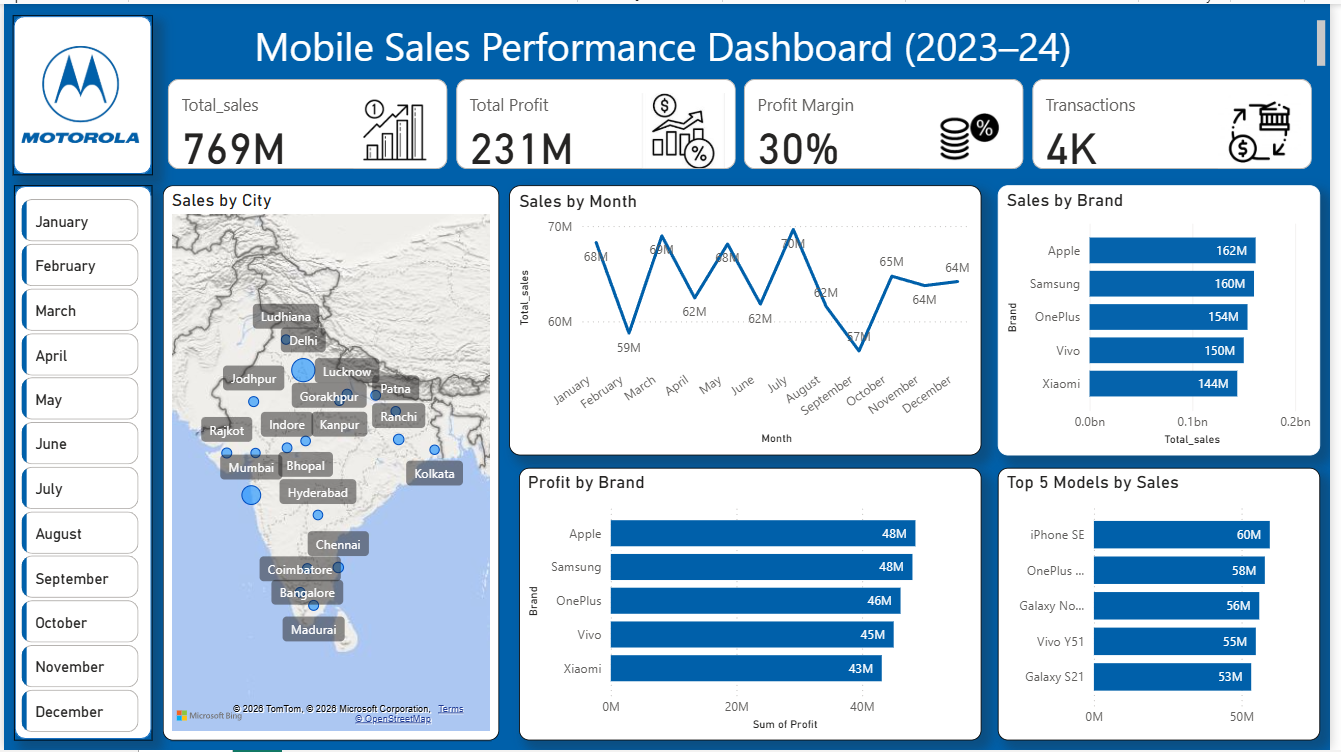

The dashboard page shown, as its layout file describes it:
{"tool":"powerbi","page":{"name":"Page 1","canvas":[1280,720],"ordinal":0},"visuals":[{"type":"shape","box":[8.4,10.9,135.1,154.4],"z":0},{"type":"image","box":[12.1,24.1,123.1,126.7],"z":1000},{"type":"shape","box":[9.7,174.9,133.9,535.7],"z":2000},{"type":"advancedSlicerVisual","fields":{"Values":["Sheet1.Date.Variation.Date Hierarchy.Month"]},"box":[12.1,183.4,123.1,527.2],"z":3000},{"type":"cardVisual","fields":{"Data":["Sheet1.Total_salessheet1","Sheet1.Total Profit","Sheet1.Profit Margin","Sheet1.Transactions"]},"box":[153.2,67.6,1117.2,97.7],"z":4000},{"type":"map","title":"Sales by City","fields":{"Category":["Sheet1.City"],"Size":["Sheet1.Total_sales"]},"box":[153.2,174.9,324.5,535.7],"z":5000},{"type":"lineChart","title":"Sales by Month","fields":{"Category":["Sheet1.Date.Variation.Date Hierarchy.Month"],"Y":["Sheet1.Total_sales"]},"box":[487.4,174.9,456,260.6],"z":6000},{"type":"barChart","title":"Sales by Brand","fields":{"Category":["Sheet1.Brand"],"Y":["Sheet1.Total_sales"]},"box":[959.1,174.9,311.3,260.6],"z":7000},{"type":"clusteredBarChart","title":"Profit by Brand","fields":{"Category":["Sheet1.Brand"],"Y":["Sum(Sheet1.Profit)"]},"box":[497.1,447.6,446.4,263],"z":8000},{"type":"clusteredBarChart","title":"Top 5 Models by Sales","fields":{"Category":["Sheet1.Mobile Model"],"Y":["Sheet1.Total_sales"]},"box":[959.1,447.6,311.3,263],"z":9000},{"type":"textbox","box":[0,10.9,1280,56.7],"z":10000}]}

Visuals, with their boxes in screenshot pixels (x1, y1, x2, y2), scaled from the page's 1280x720 canvas onto the 1341x752 screenshot:
shape: bbox(9, 11, 150, 173)
image: bbox(13, 25, 142, 158)
shape: bbox(10, 183, 150, 742)
advancedSlicerVisual - Sheet1.Date.Variation.Date Hierarchy.Month: bbox(13, 192, 142, 742)
cardVisual - Sheet1.Total_salessheet1 x Sheet1.Total Profit: bbox(161, 71, 1331, 173)
"Sales by City" map: bbox(161, 183, 500, 742)
"Sales by Month" lineChart: bbox(511, 183, 988, 455)
"Sales by Brand" barChart: bbox(1005, 183, 1331, 455)
"Profit by Brand" clusteredBarChart: bbox(521, 467, 988, 742)
"Top 5 Models by Sales" clusteredBarChart: bbox(1005, 467, 1331, 742)
textbox: bbox(0, 11, 1340, 71)
